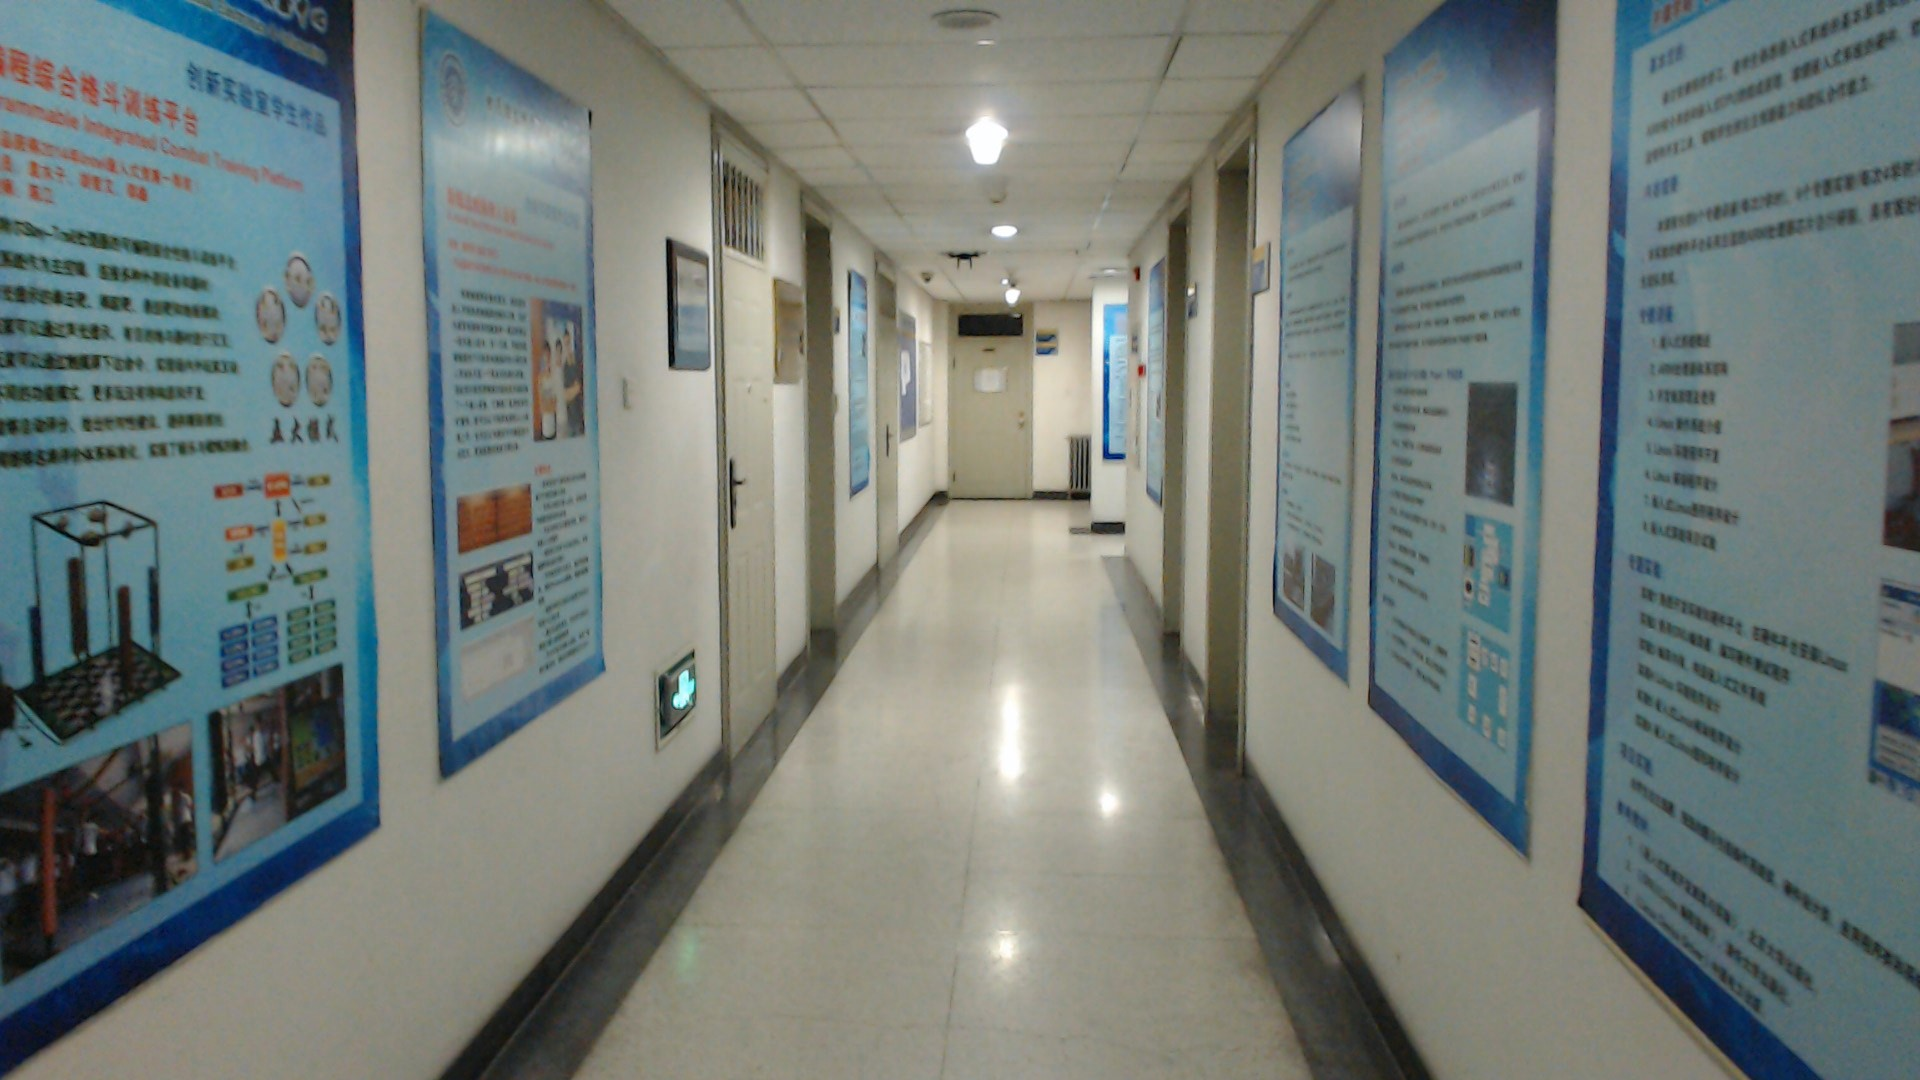test_drone: (935, 245, 997, 274)
